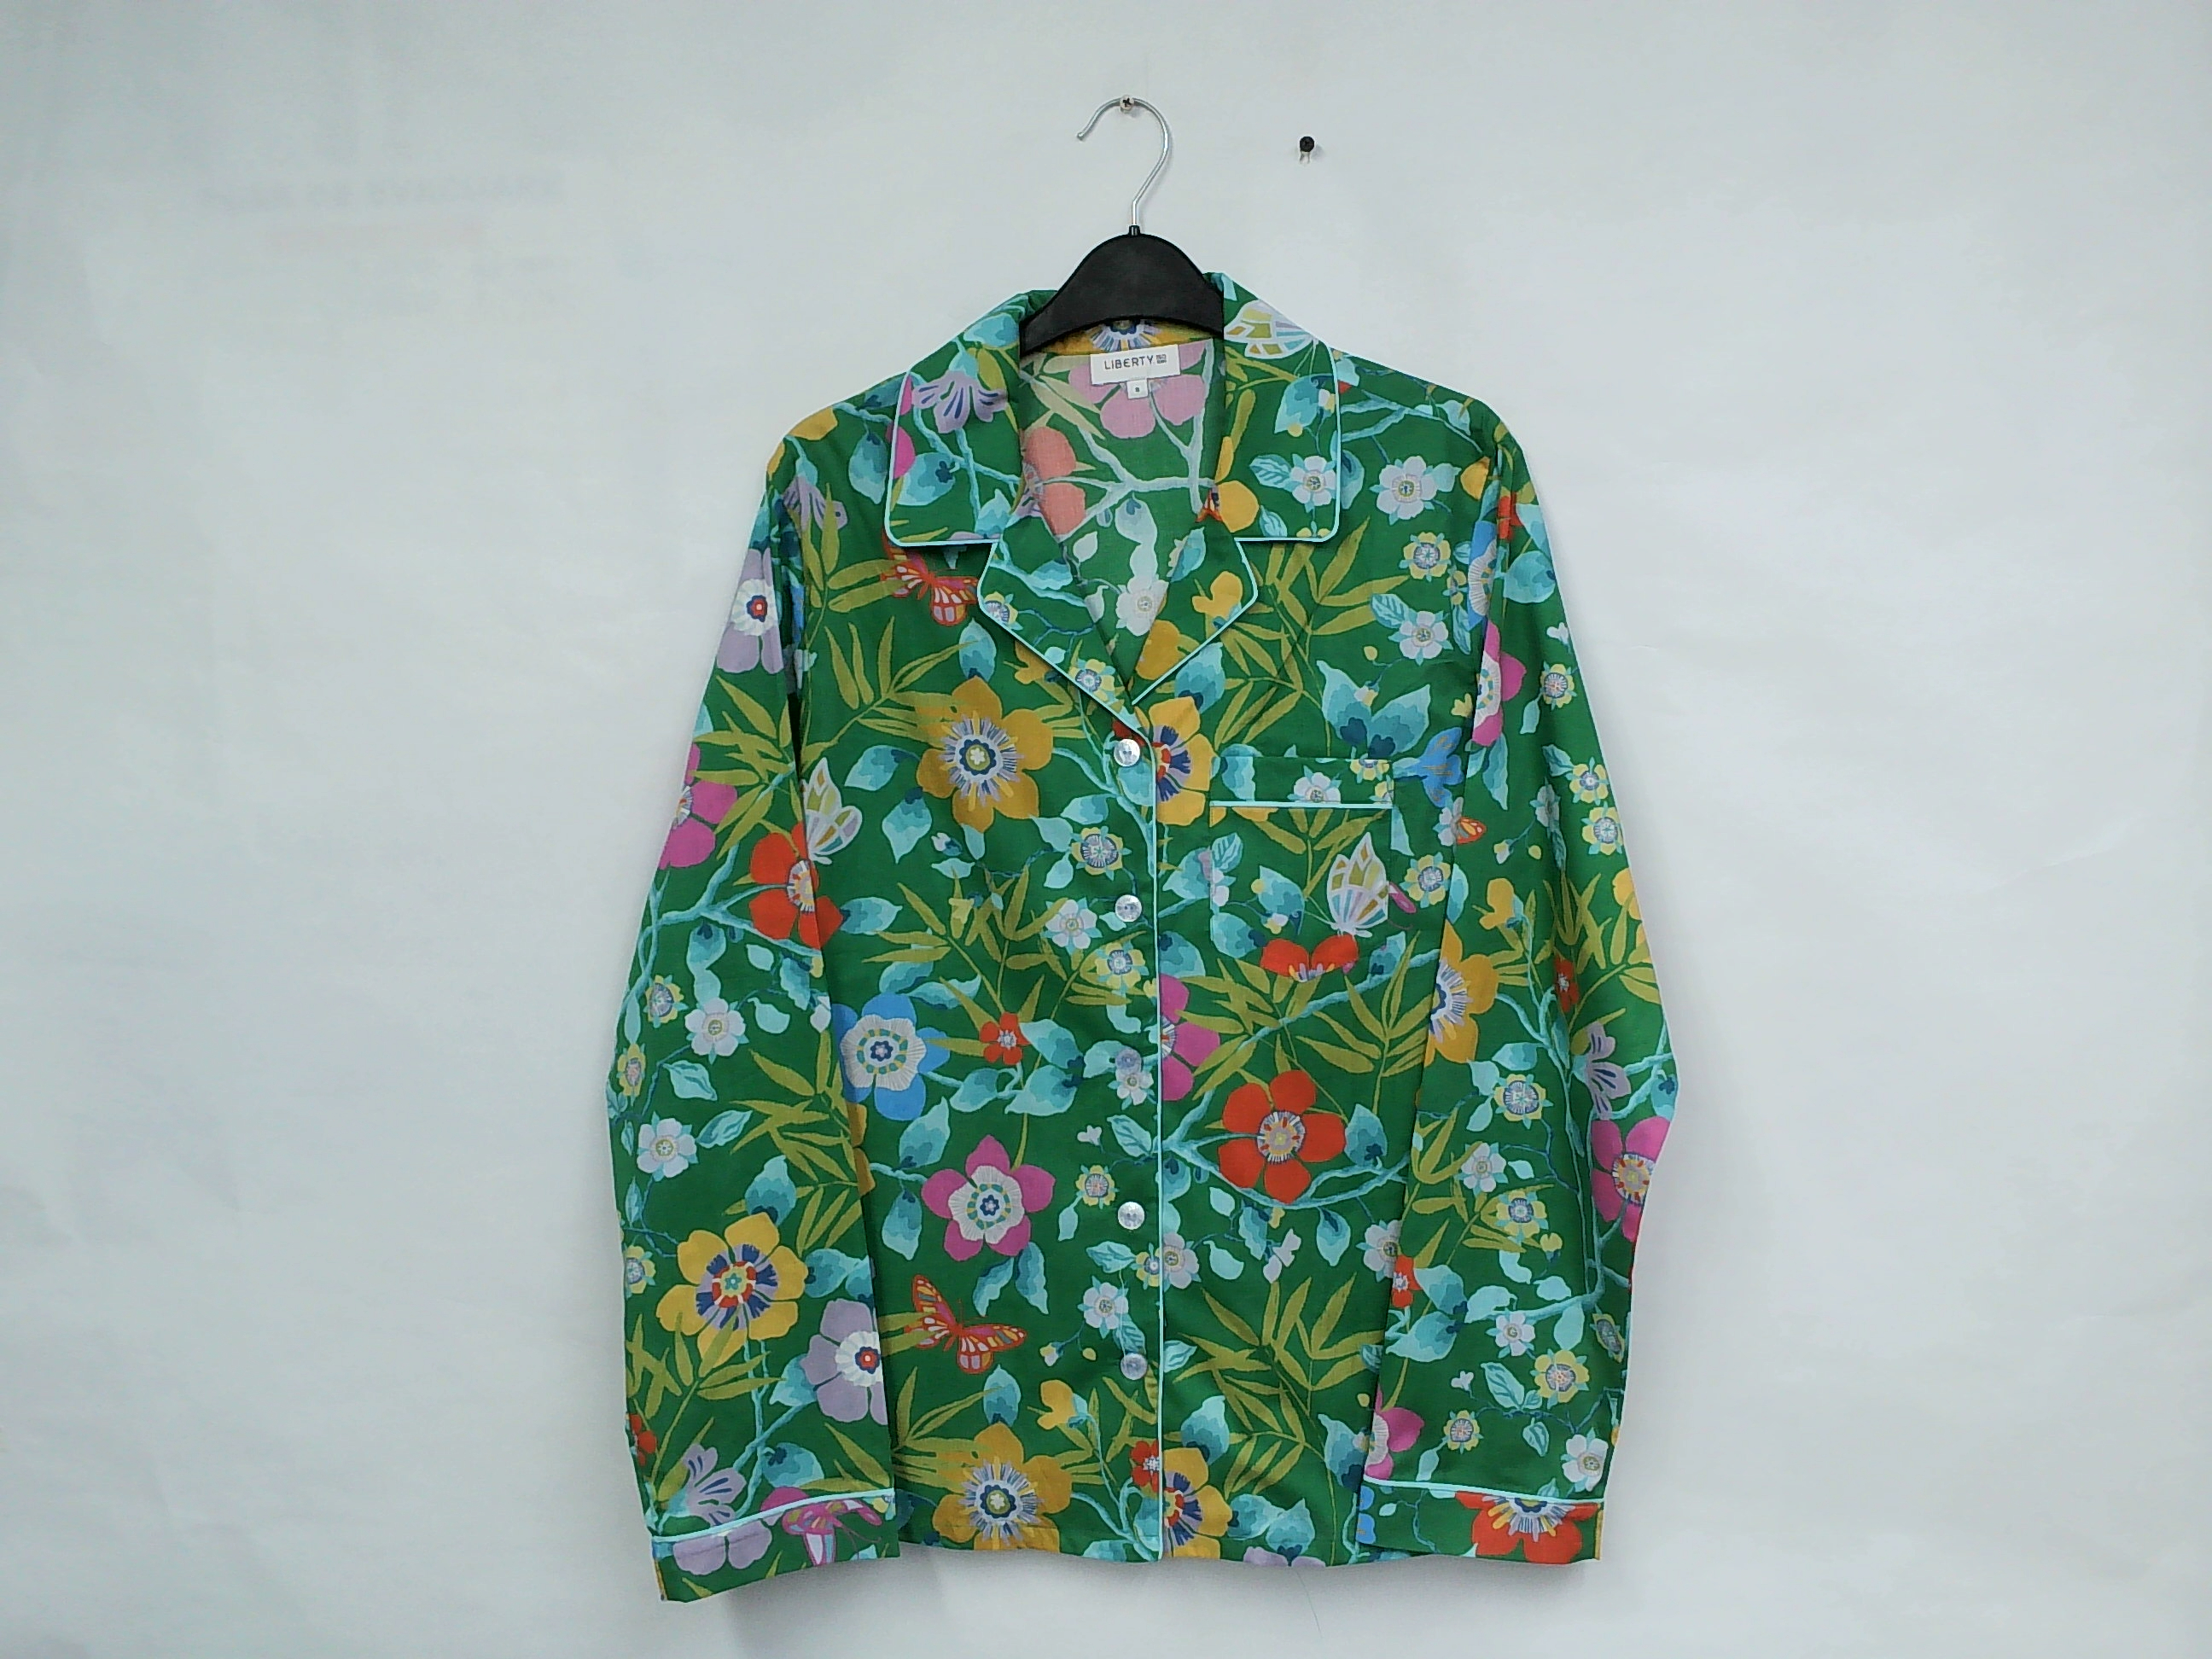loose_thread: (1242, 1540, 1341, 1622)
